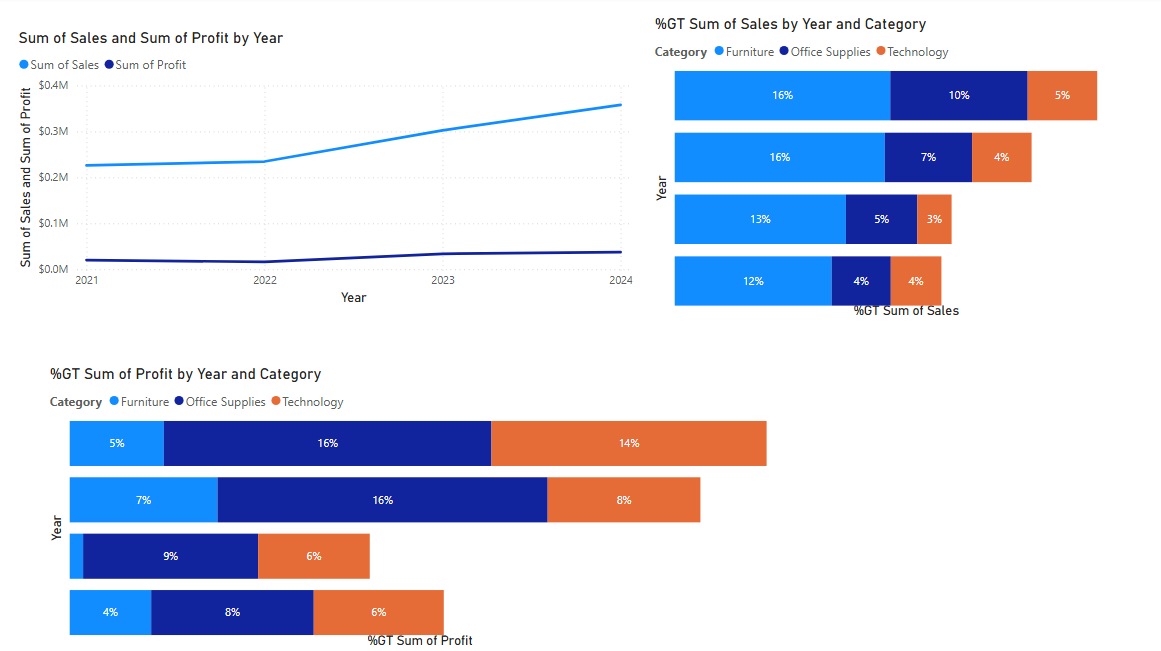

What the dashboard file says about the page in this screenshot:
{"tool":"powerbi","page":{"name":"3,4,5","canvas":[1280,720],"ordinal":0},"visuals":[{"type":"barChart","fields":{"Y":["Sum(Orders.Sales)"],"Category":["Orders.Order Date.Variation.Date Hierarchy.Year"],"Series":["Orders.Category"]},"box":[714.3,20.8,540.5,338.3],"z":0},{"type":"barChart","fields":{"Category":["Orders.Order Date.Variation.Date Hierarchy.Year"],"Y":["Sum(Orders.Profit)"],"Series":["Orders.Category"]},"box":[51,404.4,801.3,315.6],"z":1000},{"type":"lineChart","fields":{"Y":["Sum(Orders.Sales)","Sum(Orders.Profit)"],"Category":["Orders.Order Date.Variation.Date Hierarchy.Year"]},"box":[17,35.9,684.1,308],"z":2000}]}

Visuals, with their boxes in screenshot pixels (x1, y1, x2, y2), scaled from the page's 1280x720 canvas onto the 1161x651 screenshot:
barChart - Sum(Orders.Sales) x Orders.Order Date.Variation.Date Hierarchy.Year: [648, 19, 1138, 325]
barChart - Orders.Order Date.Variation.Date Hierarchy.Year x Sum(Orders.Profit): [46, 366, 773, 650]
lineChart - Sum(Orders.Sales) x Sum(Orders.Profit): [15, 32, 636, 311]
